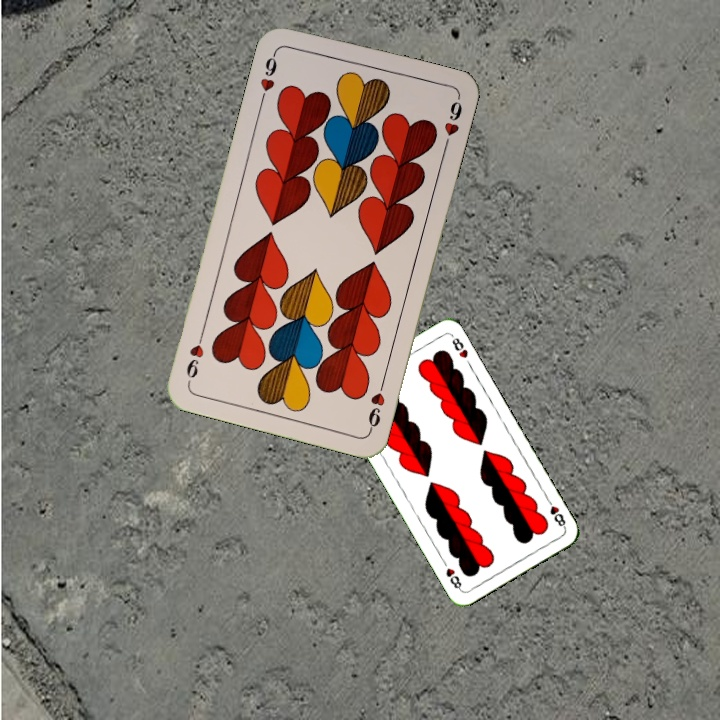H8: (542, 494, 569, 531)
H9: (364, 375, 388, 434), (256, 46, 280, 105)
